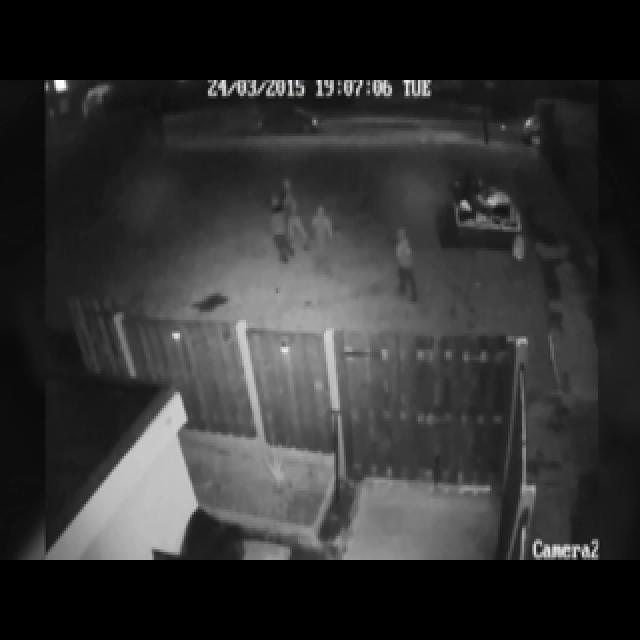shooting: (222, 71, 456, 440)
